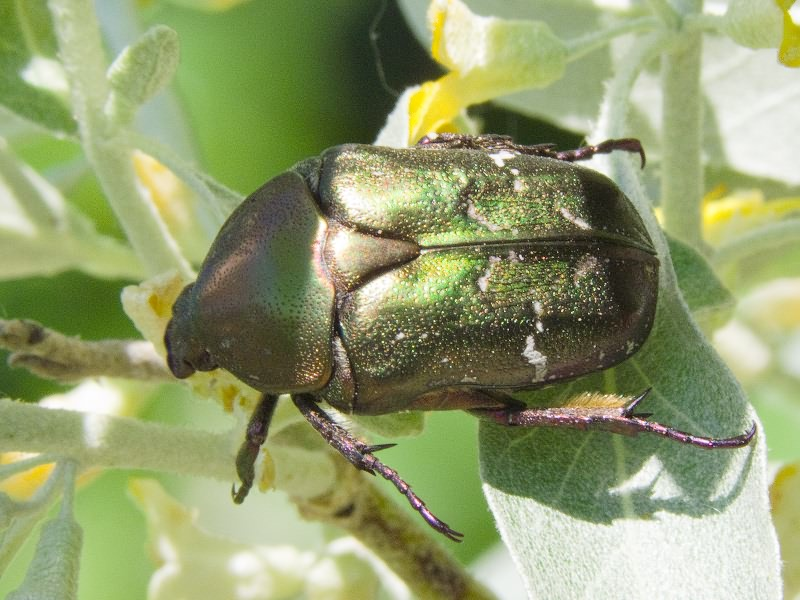Protaetia_metallica: (158, 118, 762, 545)
